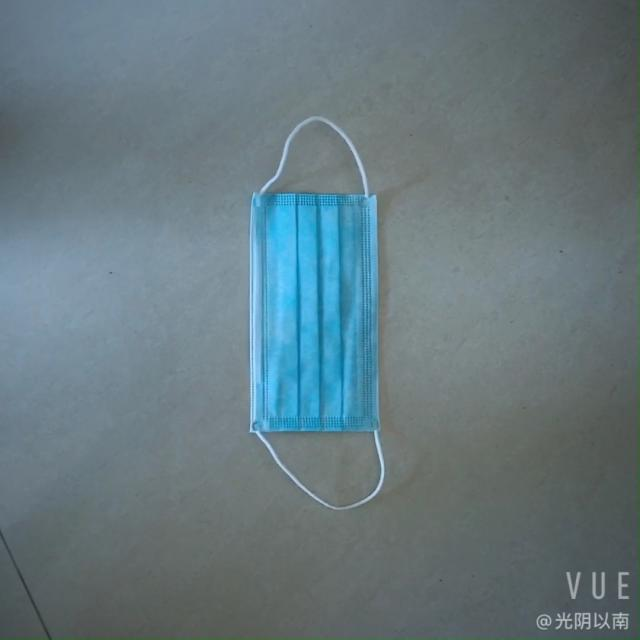non-organic waste: (230, 179, 398, 447)
